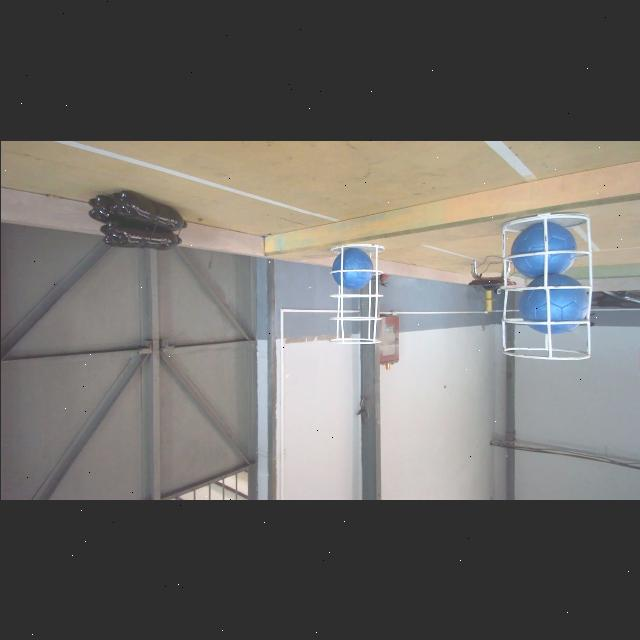B: (514, 273, 590, 339), (332, 243, 372, 290)
